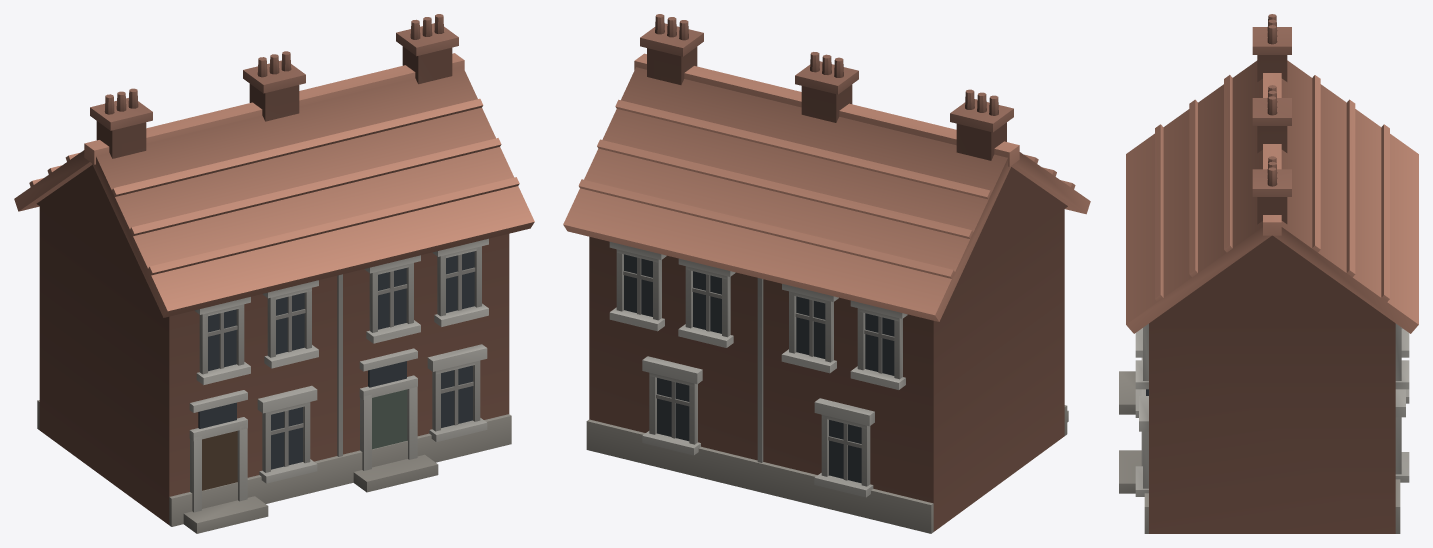
File: house_industrial_0.glb
3 renders of one model, left to right at view 1: azimuth 30°, elevation 25°; view 2: azimuth 150°, elevation 25°; view 3: azimuth 270°, elevation 25°, orthographic. The views are drawn at different scales.
Parts seen in each view (by area): view 1: Body_Detail, Body_Roof; view 2: Body_Detail, Body_Roof; view 3: Body_Detail, Body_Roof.
Boxes of the visible parts, x1,y1,x2,y2 form: Body_Detail: (36, 14, 511, 533); Body_Roof: (14, 53, 534, 317); Body_Detail: (586, 14, 1068, 533); Body_Roof: (563, 53, 1090, 321); Body_Detail: (1119, 14, 1409, 533); Body_Roof: (1126, 60, 1418, 333).
Bounding box in the file's own units: 1.09 × 1.08 × 0.8017.
